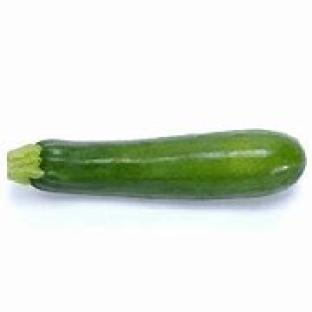Zucchini: (9, 130, 305, 197)
